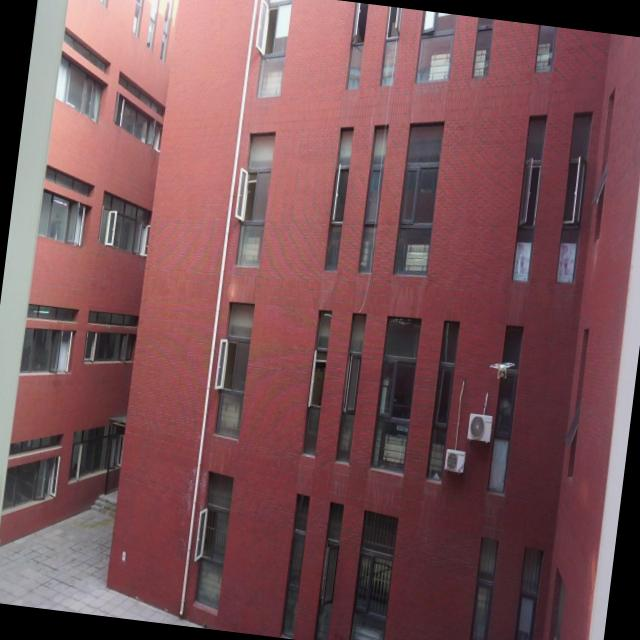drone: (487, 352, 517, 387)
